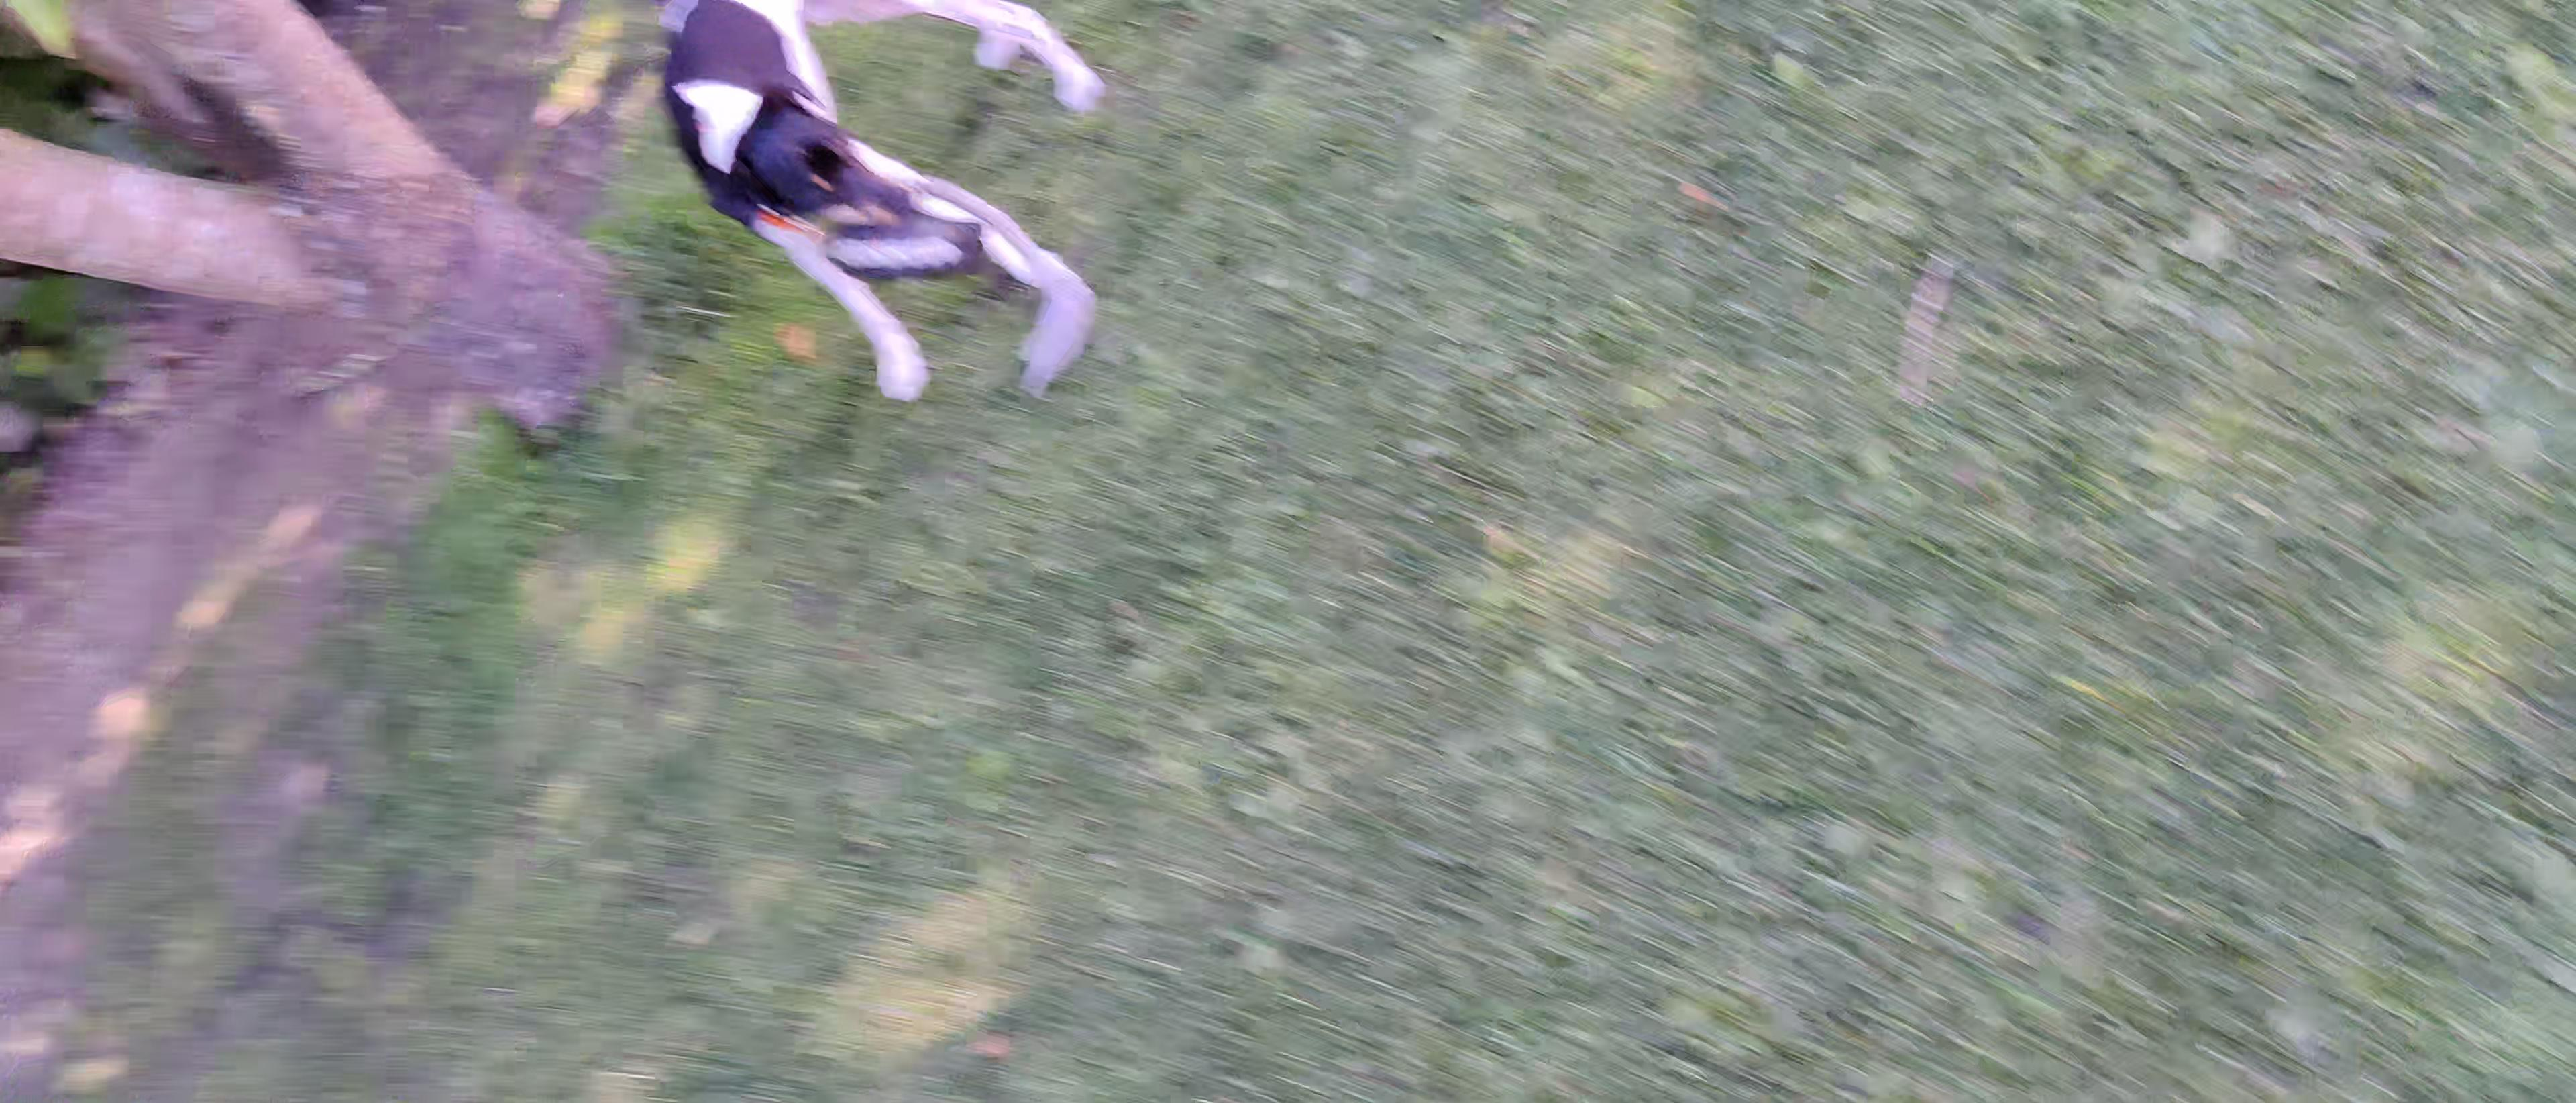Dog: (652, 0, 1056, 409)
